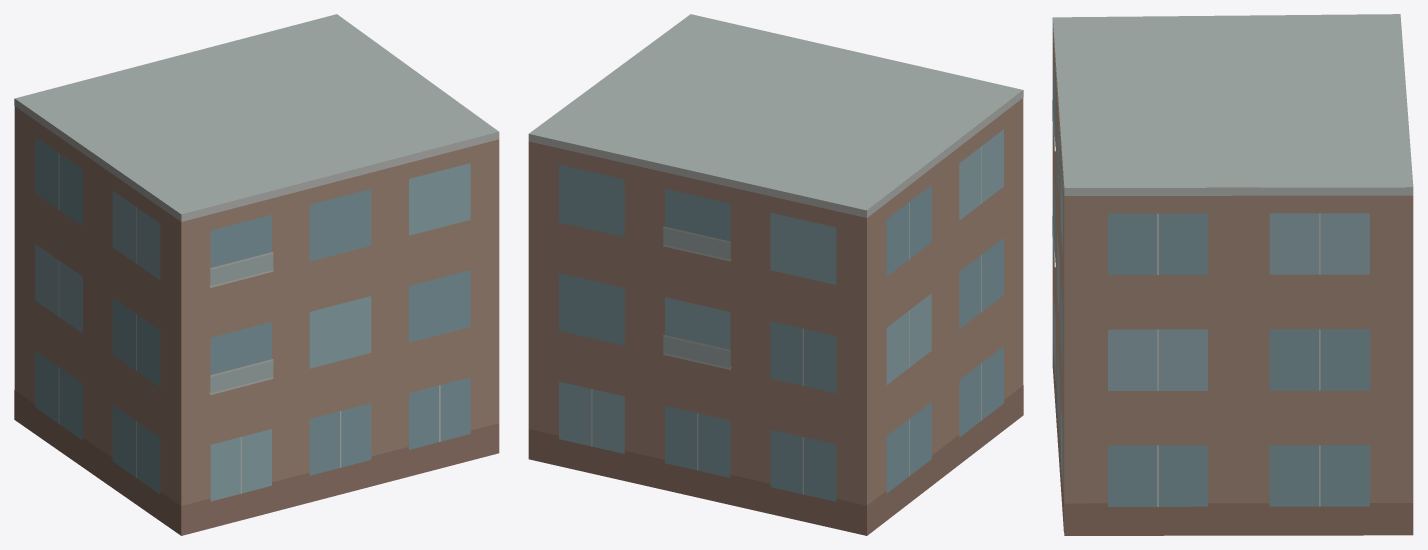
The model's file is survey-upis-32472520.glb.
The picture shows the model from 3 angles, left to right: view 1: azimuth 30°, elevation 25°; view 2: azimuth 150°, elevation 25°; view 3: azimuth 270°, elevation 25°; orthographic projection. The views are drawn at different scales.
Visible parts, largest first — view 1: survey-upis-32472520.tmp; view 2: survey-upis-32472520.tmp; view 3: survey-upis-32472520.tmp.
Boxes of the visible parts, x1=… form: survey-upis-32472520.tmp: x1=14, y1=14, x2=499, y2=535; survey-upis-32472520.tmp: x1=528, y1=14, x2=1023, y2=535; survey-upis-32472520.tmp: x1=1052, y1=14, x2=1413, y2=535.
Bounding box in the file's own units: 11.27 × 10.5 × 9.88.
